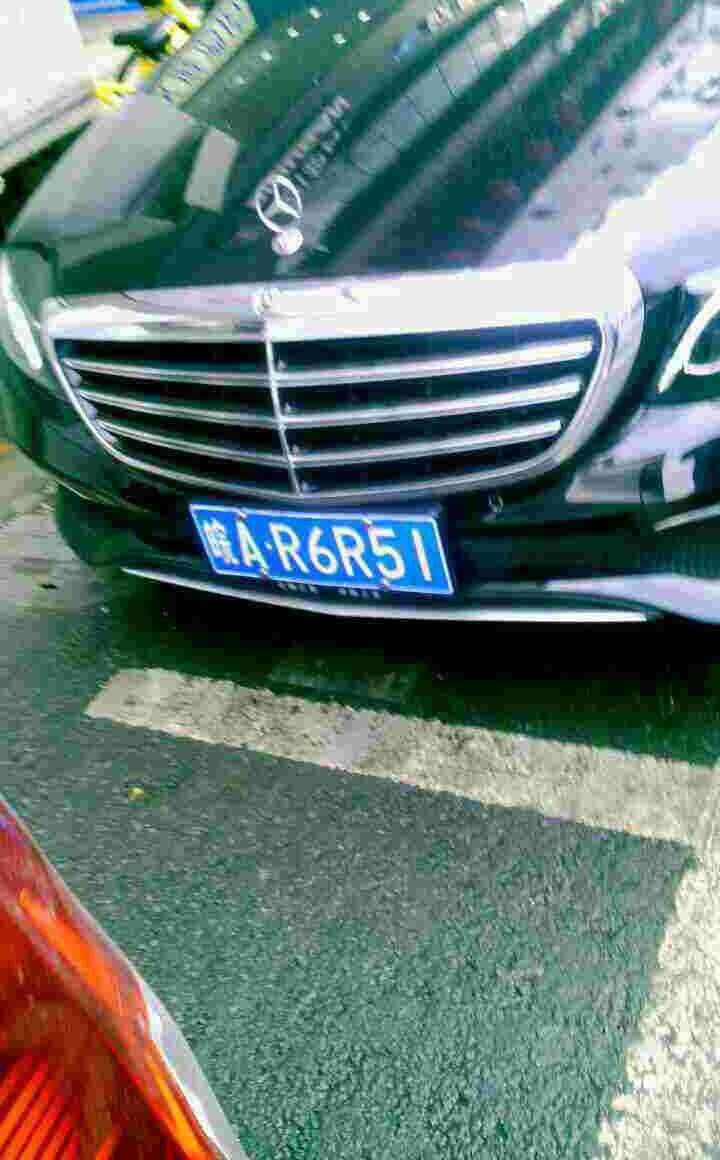license_plate: (187, 507, 447, 600)
